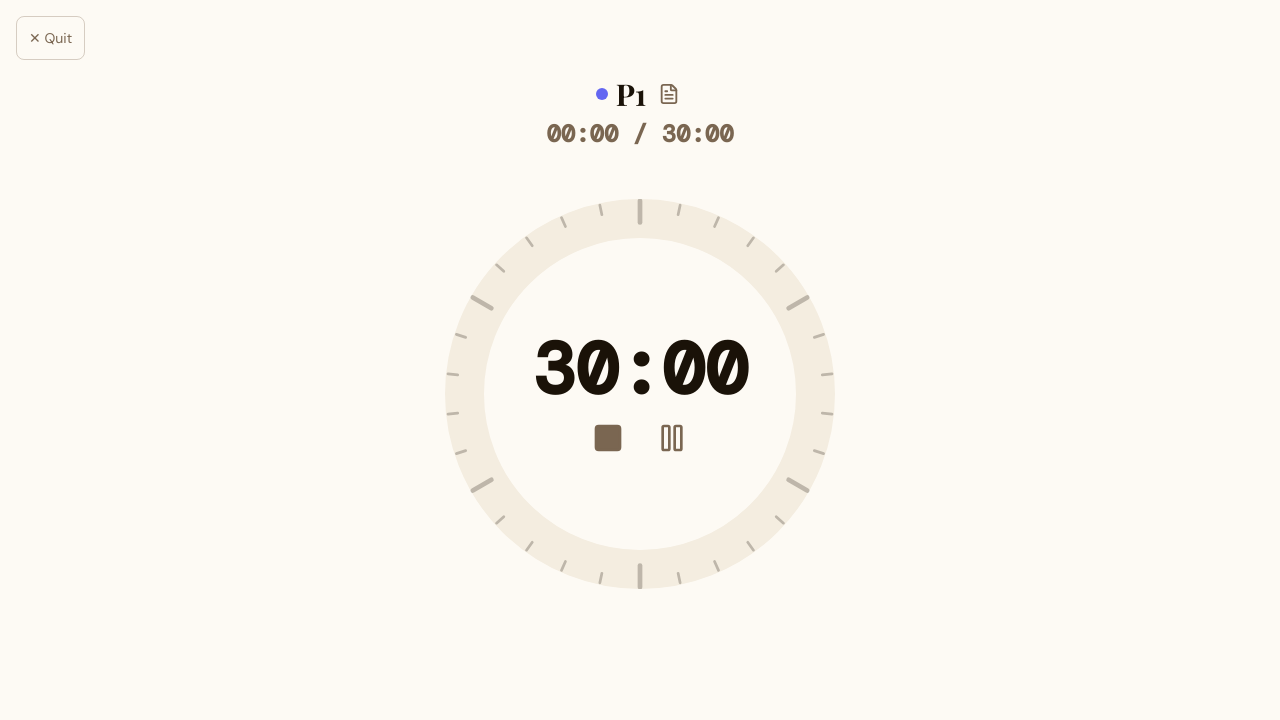
Scenario: PomodoroTimer controls › shows RESUME and STOP & LOG when paused
Click the button named "PAUSE" at point(672, 438), box [656, 422, 688, 454]
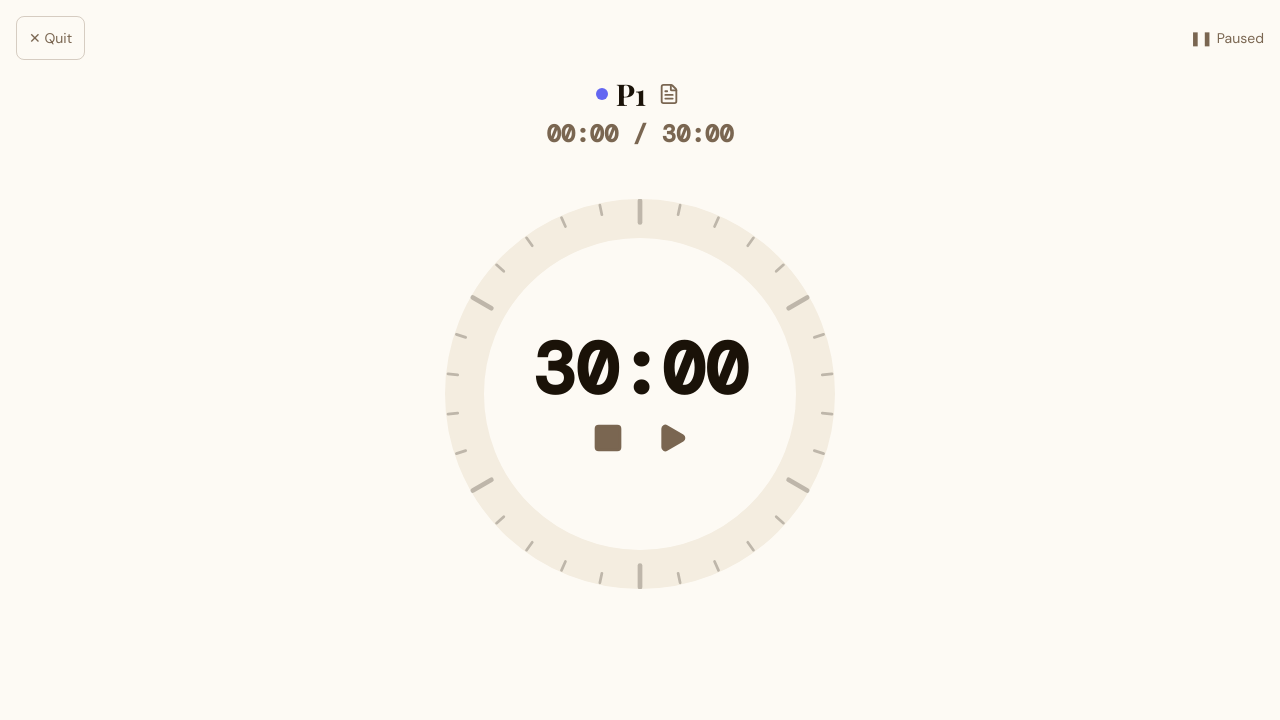
expect the button named "STOP" is shown: met, box [592, 422, 624, 454]
expect the button named "RESUME" is shown: met, box [656, 422, 688, 454]
